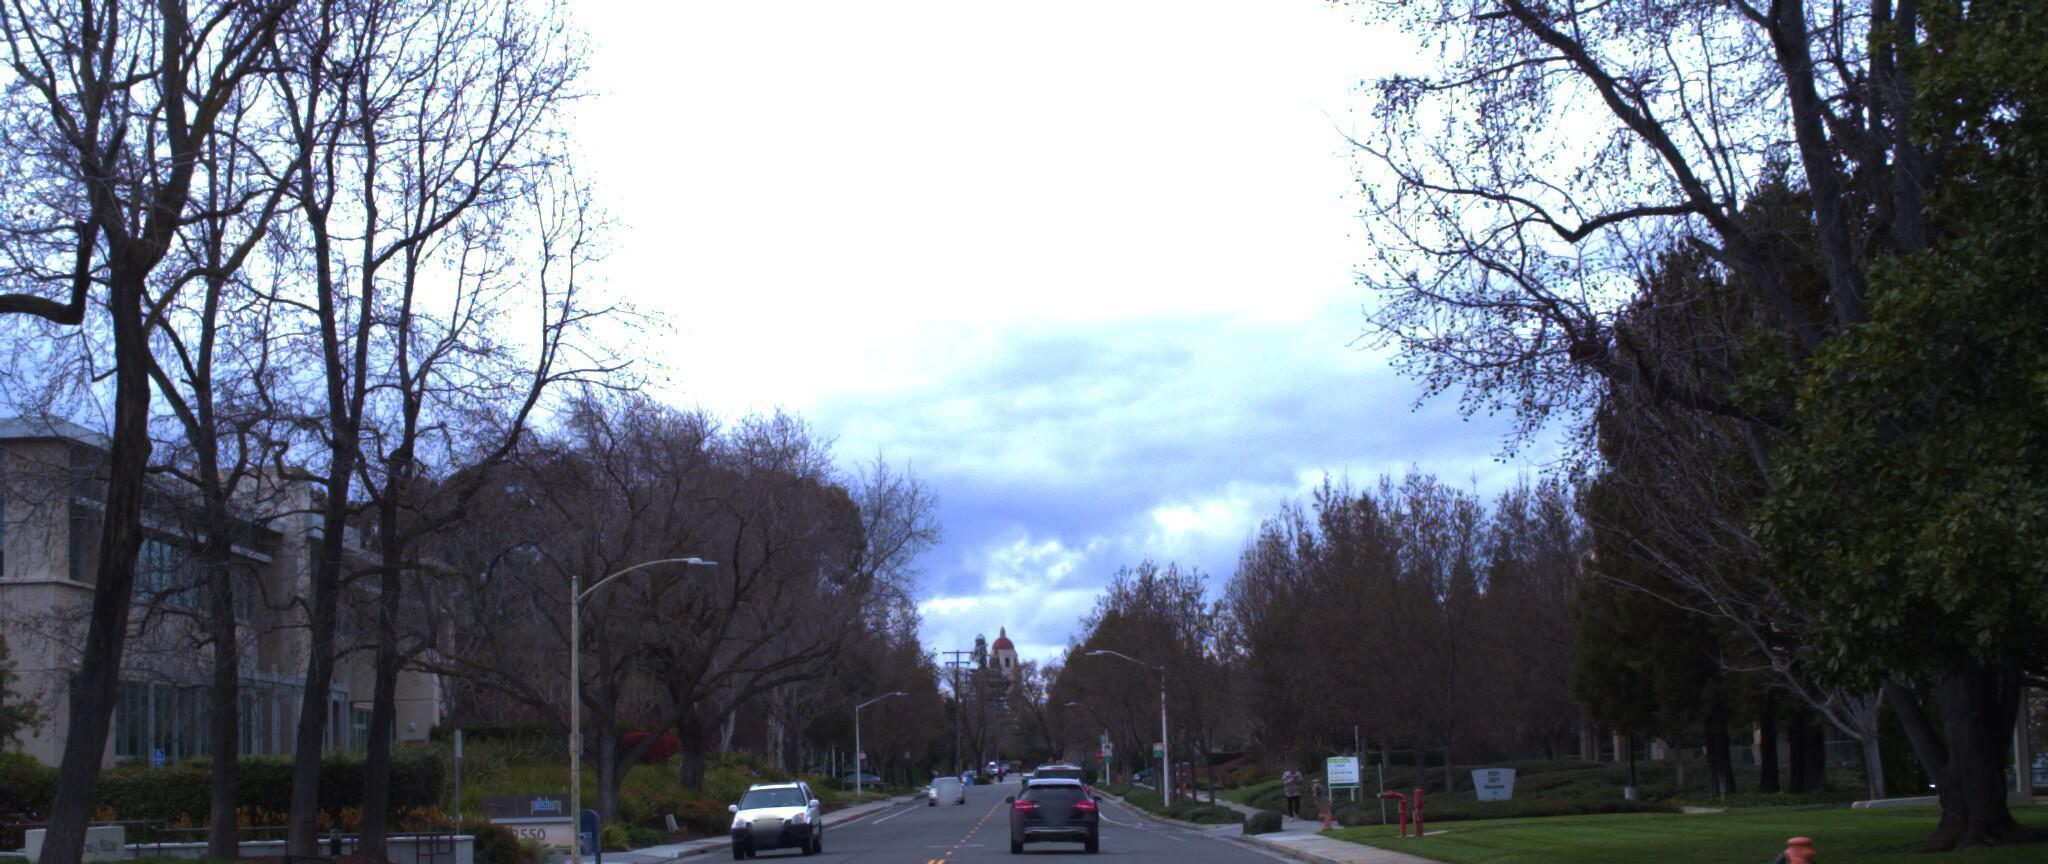car: (714, 765, 812, 847), (1000, 770, 1089, 851)
